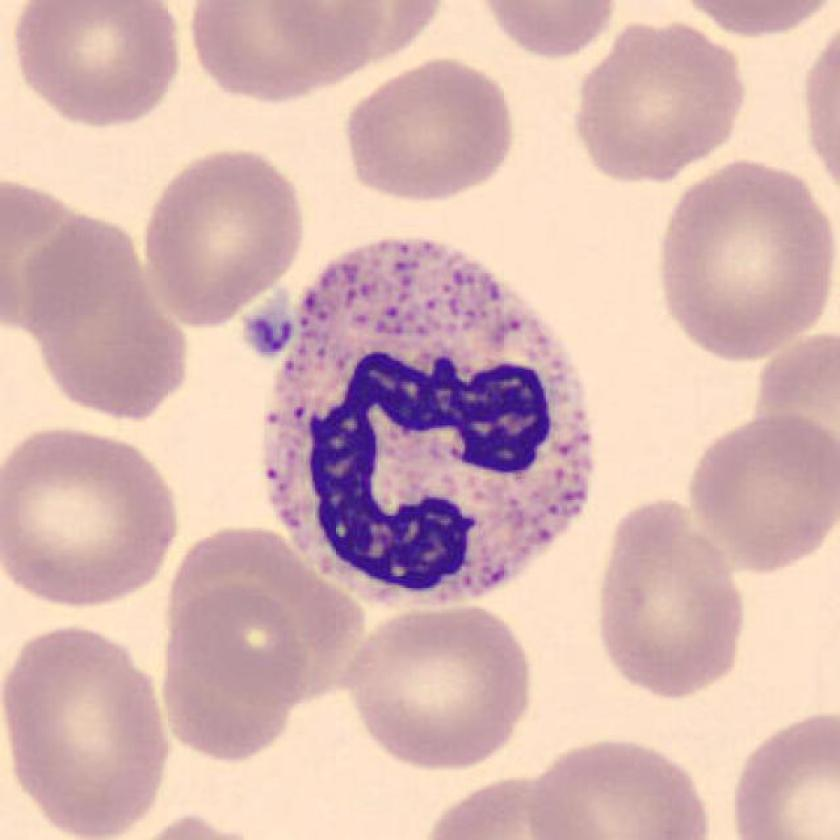neutrophil: (268, 241, 588, 609)
